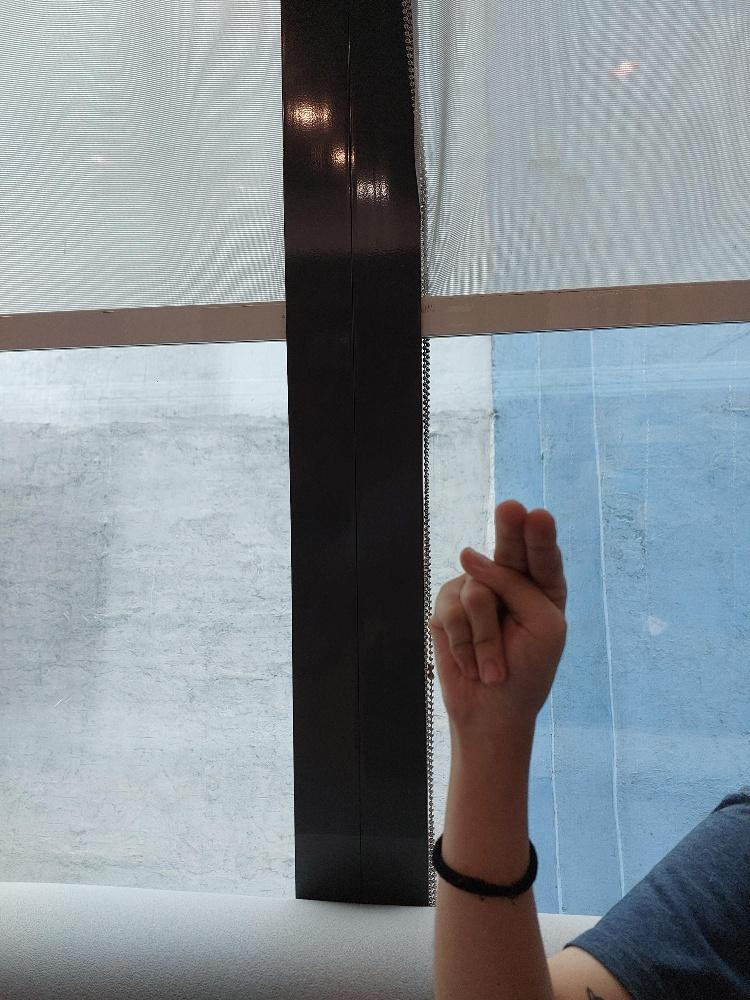n: (429, 499, 569, 718)
